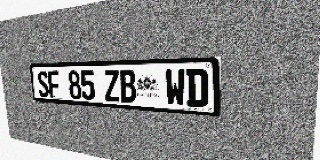5: (80, 70, 96, 100)
8: (67, 70, 82, 99)
B: (119, 70, 137, 103)
D: (186, 69, 208, 108)
F: (47, 71, 61, 98)
S: (37, 71, 50, 97)
W: (165, 69, 186, 106)
Z: (103, 70, 120, 102)
